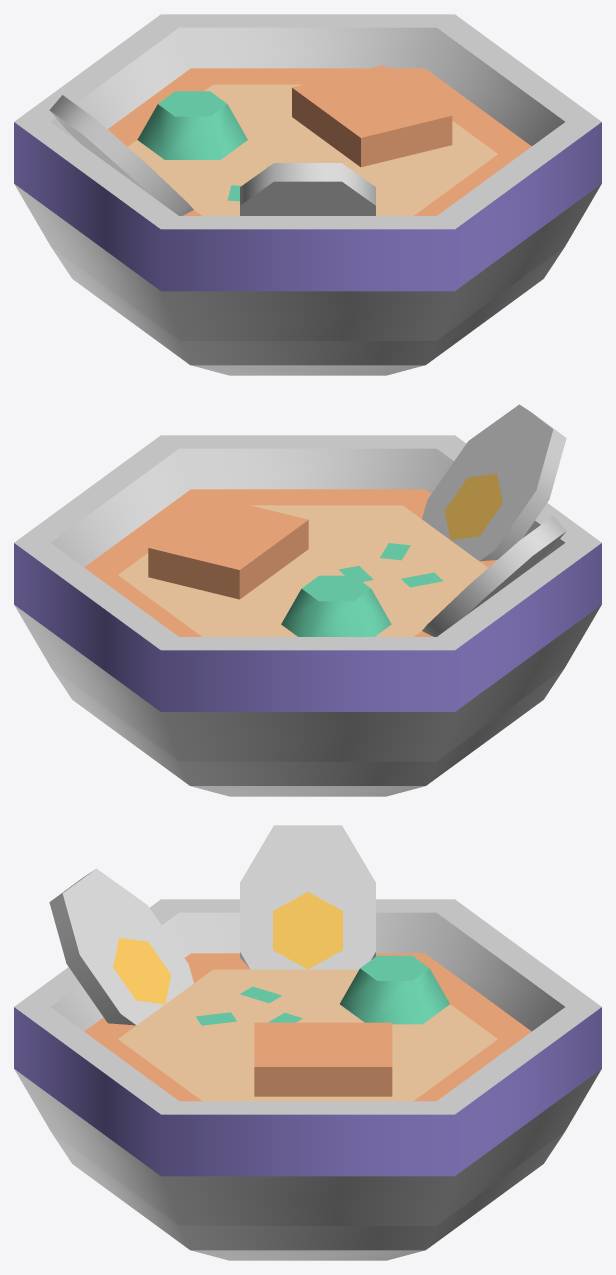
Rendered from bowlBroth.fbx.
3 renders of one model, top to bottom at view 1: azimuth 30°, elevation 25°; view 2: azimuth 150°, elevation 25°; view 3: azimuth 270°, elevation 25°, orthographic.
Parts seen in each view (by area): view 1: bowlBroth, Group (×2); view 2: bowlBroth, Group (×2); view 3: bowlBroth, Group (×2).
Boxes of the visible parts, box(x1,y1,x2,y2) form: bowlBroth: box(14, 14, 601, 375); Group (×2): box(49, 95, 375, 215); bowlBroth: box(14, 435, 601, 796); Group (×2): box(422, 404, 566, 636); bowlBroth: box(14, 899, 601, 1260); Group (×2): box(49, 825, 375, 1025).
Size of the model in its own units: 5.26 by 2.9 by 5.8.
